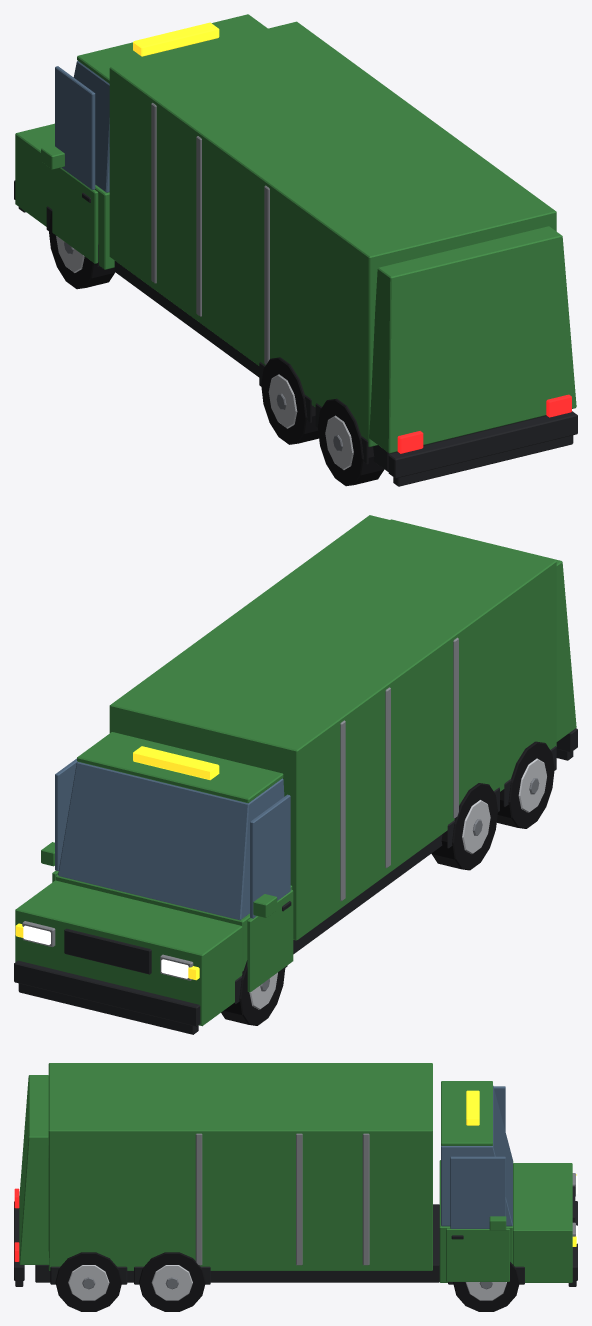
File: car_garbage.glb
The picture shows the model from 3 angles, top to bottom: view 1: azimuth 30°, elevation 25°; view 2: azimuth 150°, elevation 25°; view 3: azimuth 270°, elevation 25°; orthographic projection. The views are drawn at different scales.
Visible parts, largest first — view 1: car_body, car_door_FL; view 2: car_body, car_door_FL, car_door_FR; view 3: car_body, car_door_FR.
Boxes of the visible parts, box(x1,y1,x2,y2) form: car_body: box(14, 14, 577, 486); car_door_FL: box(41, 66, 98, 263); car_body: box(14, 515, 577, 1034); car_door_FL: box(247, 794, 293, 992); car_door_FR: box(41, 758, 77, 882); car_body: box(14, 1063, 577, 1311); car_door_FR: box(446, 1156, 509, 1281).
Size of the model in its own units: 2.88 by 2.99 by 8.44.
